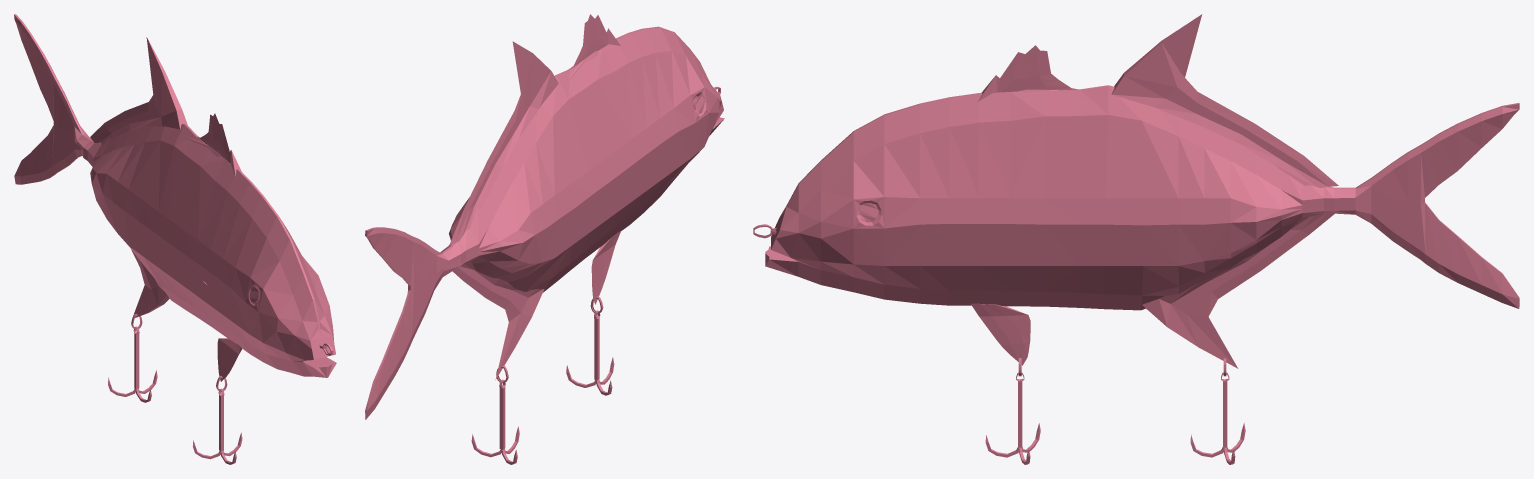
Rendered from Fishing_Bait2.fbx.
3 views of the same model, side by side, from view 1: azimuth 30°, elevation 25°; view 2: azimuth 150°, elevation 25°; view 3: azimuth 270°, elevation 25° (orthographic). The views are drawn at different scales.
Parts seen in each view (by area): view 1: fish; view 2: fish; view 3: fish.
Part boxes in pixels (x1,y1,x2,y2): fish: (14, 14, 336, 464); fish: (365, 14, 724, 464); fish: (753, 14, 1519, 464).
Bounding box in the file's own units: 15.36 × 83.45 × 131.
